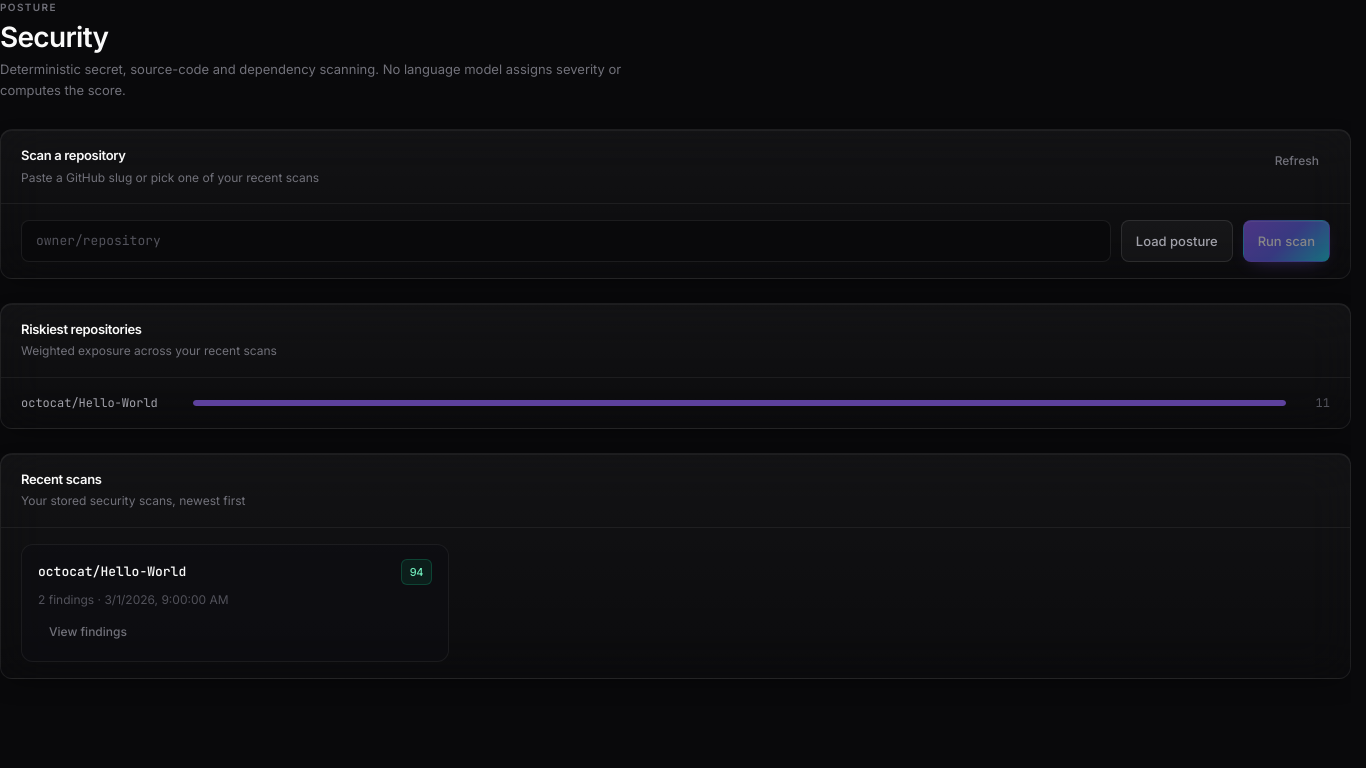
Test case: SecurityPage › loading a repository posture › reports that no advisory database was consulted for a fresh scan
In the field labelled "repository": x=566, y=241 21,220 -> 1111,262, type "octocat/Hello-World"
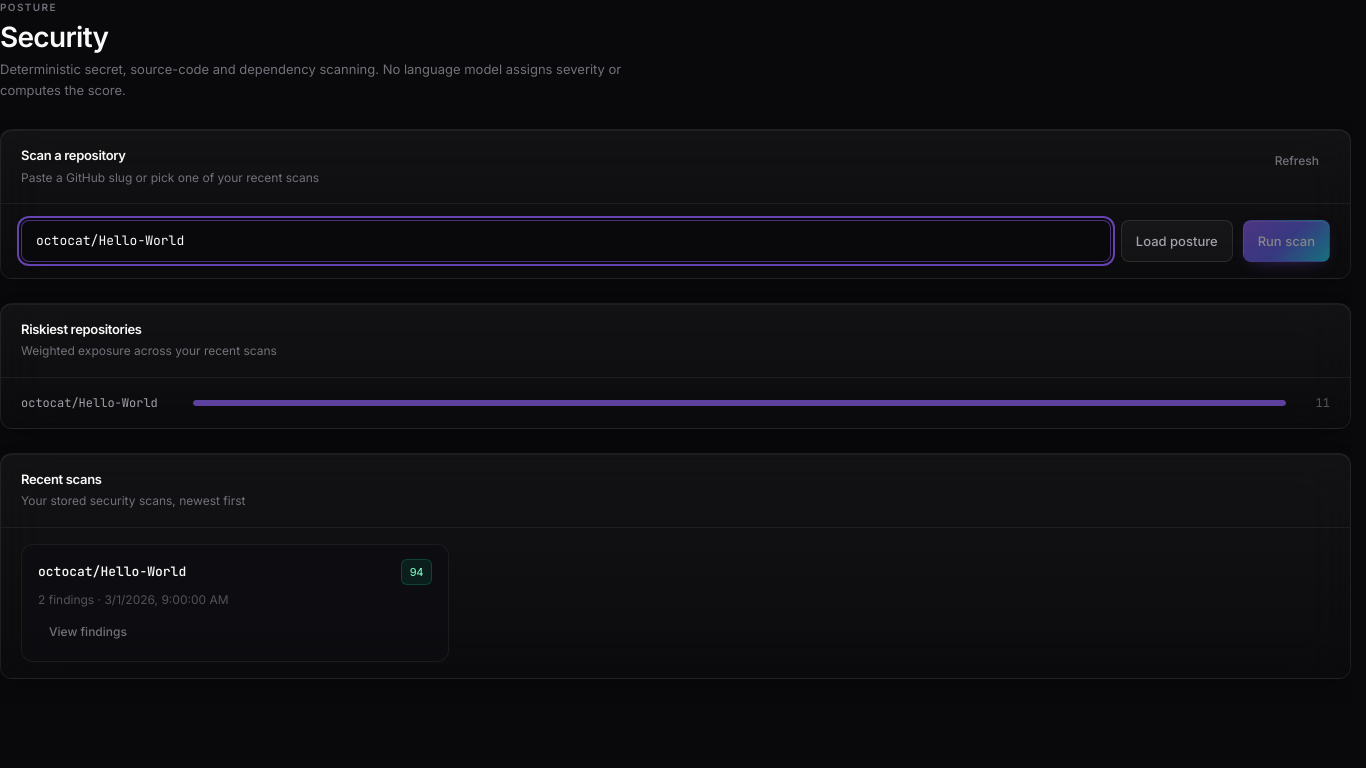
Click the button "Load posture": x=1177, y=241 1121,220 -> 1233,262
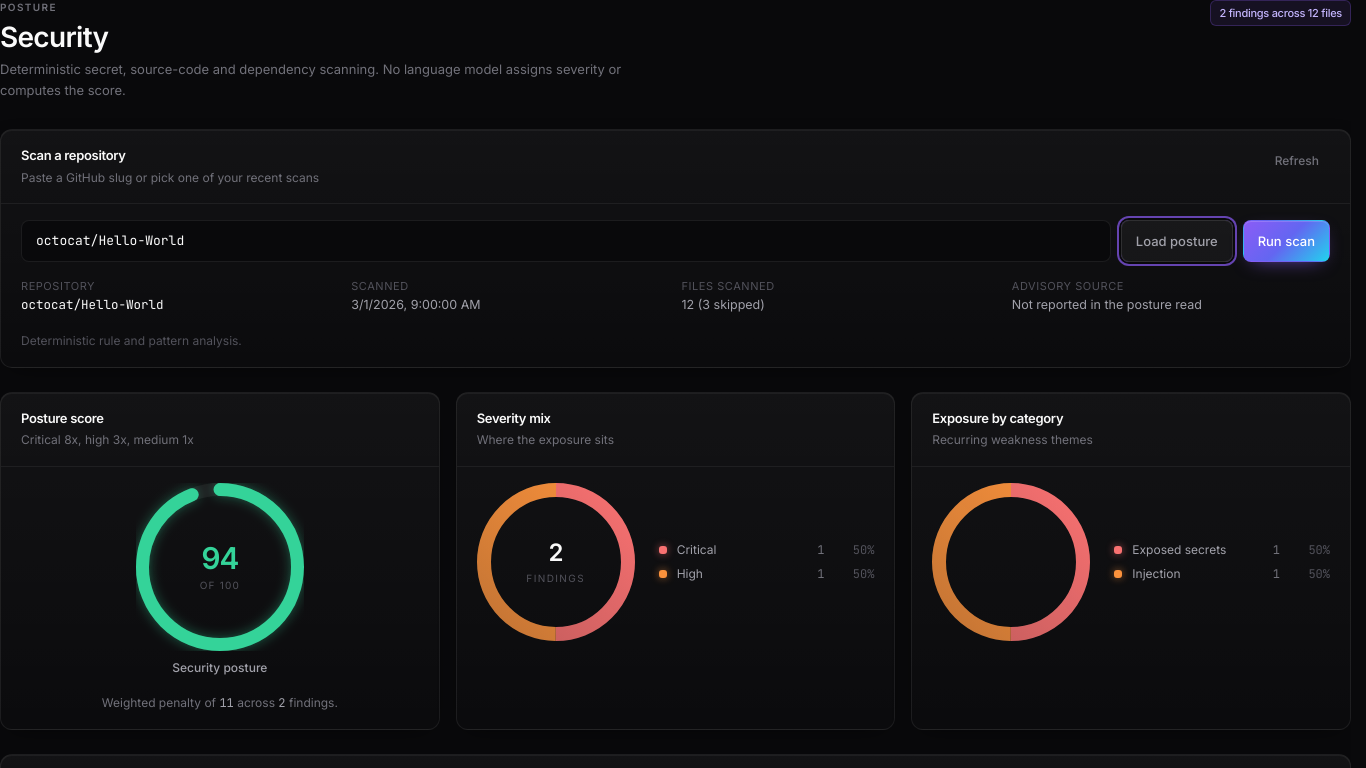
Click the button "Run scan": x=1286, y=241 1243,220 -> 1330,262
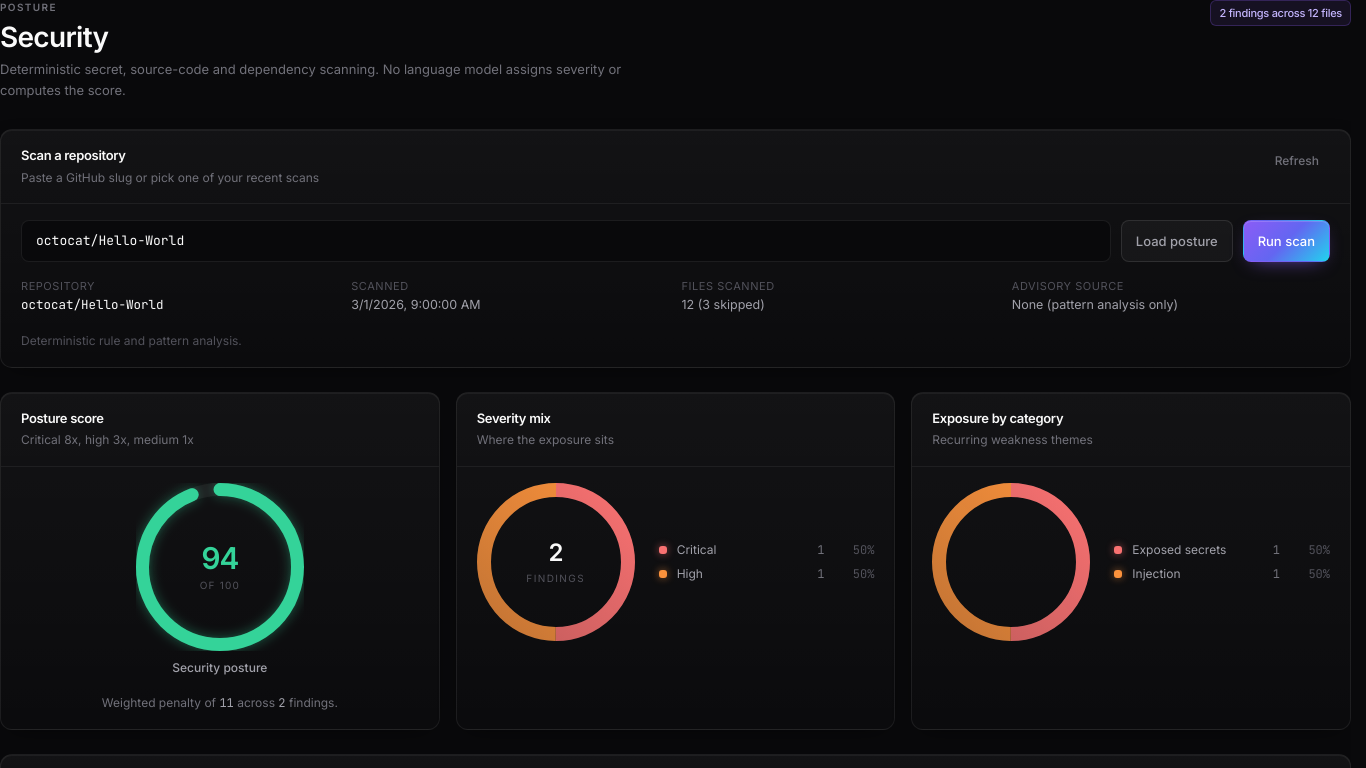
Result: the text "None (pattern analysis only)" is shown at 1012,297 -> 1178,312
